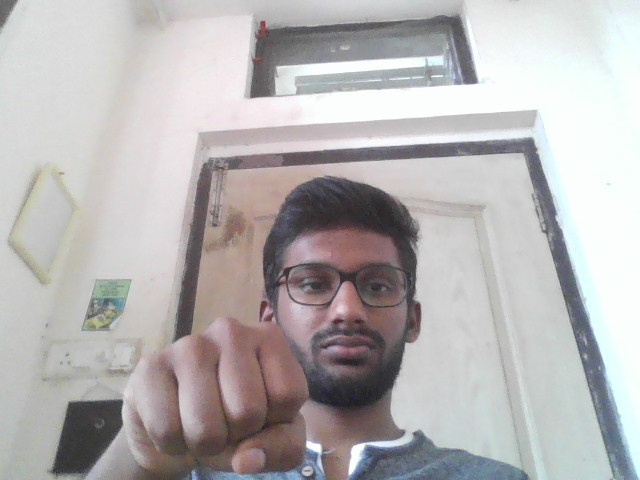No: (112, 314, 314, 480)
